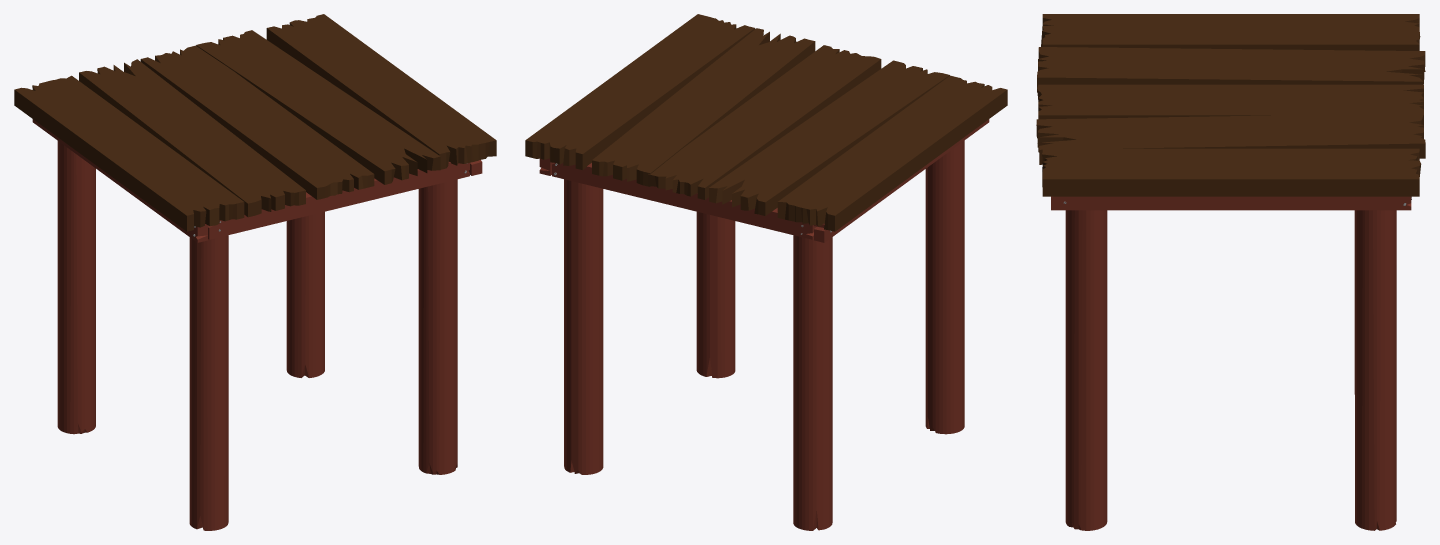
The model's file is deck square small.fbx.
3 views of the same model, side by side, from view 1: azimuth 30°, elevation 25°; view 2: azimuth 150°, elevation 25°; view 3: azimuth 270°, elevation 25° (orthographic). The views are drawn at different scales.
Parts seen in each view (by area): view 1: Cube.008, Cube.004, Cube.007, Cylinder.003, Cube.005, Cylinder.002, Cube.006, Cylinder, Cylinder.001, Cube.002, Cube.001; view 2: Cube.008, Cube.007, Cube.004, Cube.006, Cylinder, Cylinder.001, Cube.005, Cylinder.003, Cylinder.002, Cube.003, Cube.001; view 3: Cube.007, Cube.006, Cylinder.002, Cylinder.001, Cube.008, Cube.005, Cube.004, Cube.
Boxes of the visible parts, x1=… form: Cube.008: x1=14, y1=75, x2=244, y2=231; Cube.004: x1=140, y1=45, x2=374, y2=199; Cube.007: x1=266, y1=14, x2=496, y2=169; Cylinder.003: x1=189, y1=235, x2=228, y2=530; Cube.005: x1=196, y1=30, x2=440, y2=184; Cylinder.002: x1=418, y1=179, x2=457, y2=474; Cube.006: x1=79, y1=59, x2=305, y2=217; Cylinder: x1=57, y1=141, x2=95, y2=434; Cylinder.001: x1=286, y1=211, x2=324, y2=377; Cube.002: x1=208, y1=162, x2=469, y2=239; Cube.001: x1=32, y1=119, x2=207, y2=242; Cube.008: x1=777, y1=75, x2=1007, y2=231; Cube.007: x1=525, y1=14, x2=755, y2=170; Cube.004: x1=647, y1=45, x2=881, y2=199; Cube.006: x1=709, y1=60, x2=949, y2=215; Cylinder: x1=793, y1=235, x2=832, y2=530; Cylinder.001: x1=564, y1=179, x2=603, y2=474; Cube.005: x1=592, y1=28, x2=815, y2=186; Cylinder.003: x1=925, y1=140, x2=964, y2=434; Cylinder.002: x1=696, y1=211, x2=735, y2=378; Cube.003: x1=552, y1=162, x2=816, y2=239; Cube.001: x1=814, y1=119, x2=989, y2=242; Cube.007: x1=1041, y1=148, x2=1421, y2=196; Cube.006: x1=1037, y1=47, x2=1425, y2=92; Cylinder.002: x1=1065, y1=210, x2=1107, y2=530; Cylinder.001: x1=1355, y1=210, x2=1396, y2=530; Cube.008: x1=1041, y1=14, x2=1420, y2=50; Cube.005: x1=1036, y1=113, x2=1425, y2=164; Cube.004: x1=1037, y1=84, x2=1423, y2=124; Cube: x1=1051, y1=196, x2=1411, y2=210.
Bounding box in the file's own units: 1081 × 1110 × 1077.
